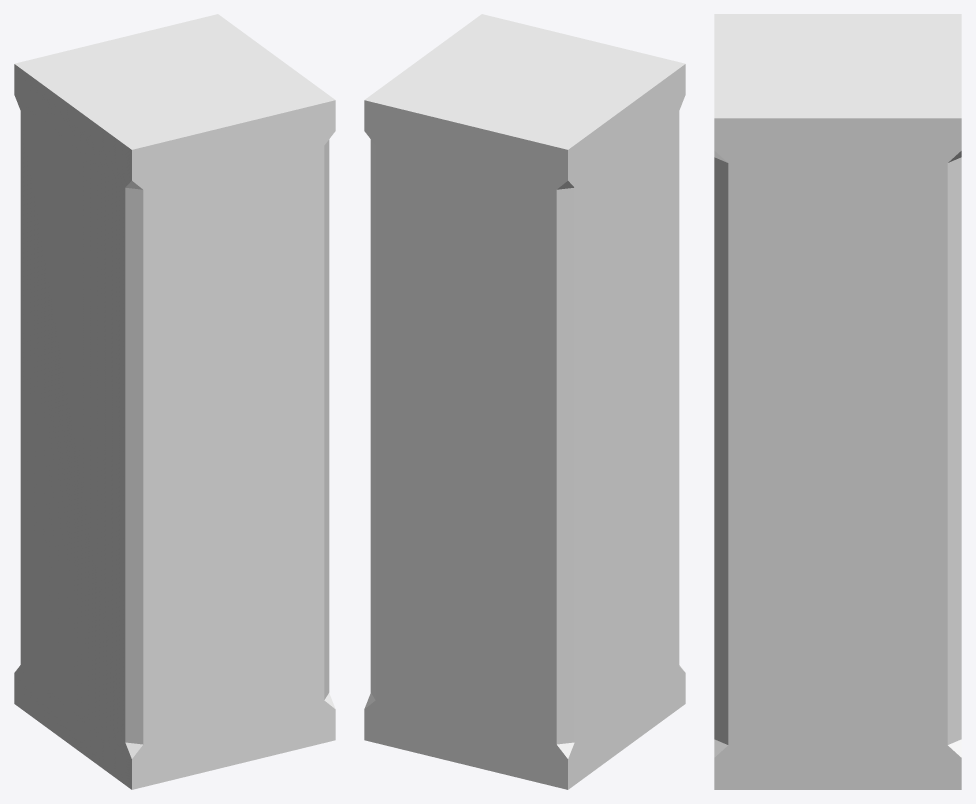
The model's file is Pillar.glb.
3 views of the same model, side by side, from view 1: azimuth 30°, elevation 25°; view 2: azimuth 150°, elevation 25°; view 3: azimuth 270°, elevation 25° (orthographic). The views are drawn at different scales.
Parts seen in each view (by area): view 1: Pillar; view 2: Pillar; view 3: Pillar.
Part boxes in pixels (x1,y1,x2,y2): Pillar: (14,14,335,789); Pillar: (364,14,685,789); Pillar: (714,14,961,789).
Size of the model in its own units: 1 by 3 by 1.
1 material, 1 textured.
